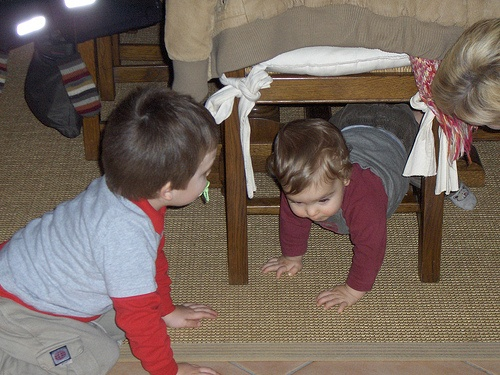head: (96, 84, 220, 212), (262, 119, 351, 223)
person: (0, 82, 230, 373), (263, 102, 437, 314)
